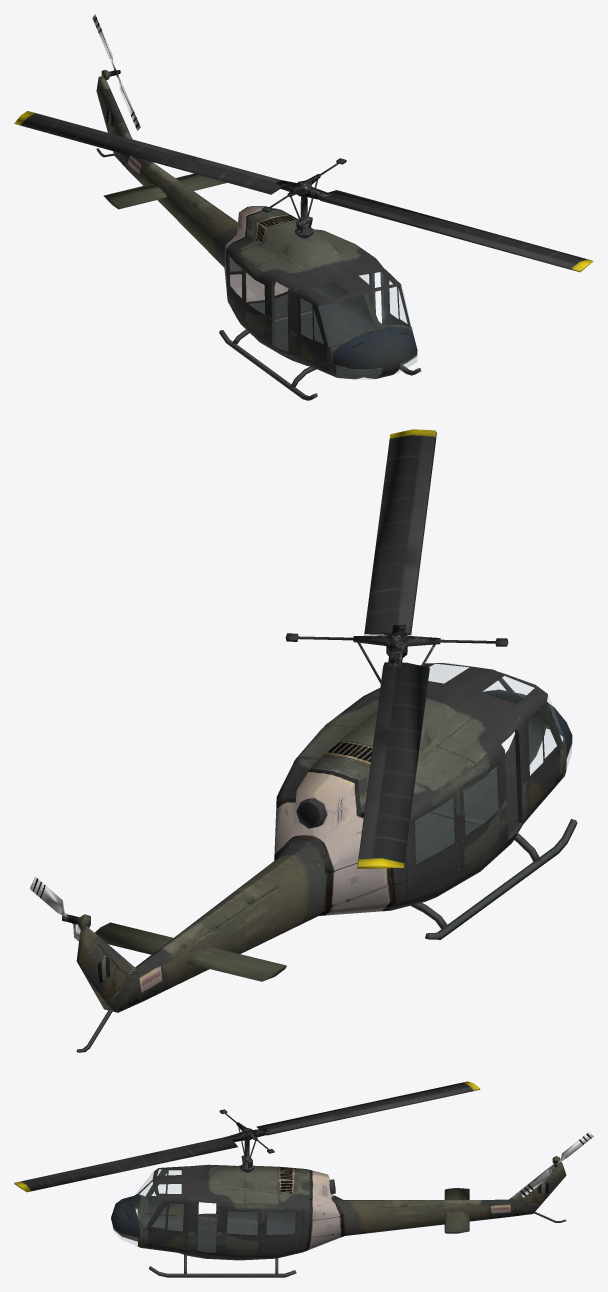
The model's file is heli.glb.
3 renders of one model, top to bottom at view 1: azimuth 30°, elevation 25°; view 2: azimuth 150°, elevation 25°; view 3: azimuth 270°, elevation 25°, orthographic. The views are drawn at different scales.
Parts seen in each view (by area): view 1: Bell_Huey, Top_Rotor, Back_Rotor; view 2: Bell_Huey, Top_Rotor, Back_Rotor; view 3: Bell_Huey, Top_Rotor, Back_Rotor.
Boxes of the visible parts, <box> form: Bell_Huey: <box>96,69,420,400</box>; Top_Rotor: <box>14,111,593,272</box>; Back_Rotor: <box>92,14,140,130</box>; Bell_Huey: <box>76,663,577,1052</box>; Top_Rotor: <box>285,429,508,868</box>; Back_Rotor: <box>30,876,80,941</box>; Bell_Huey: <box>111,1156,566,1277</box>; Top_Rotor: <box>14,1081,480,1192</box>; Back_Rotor: <box>518,1132,593,1197</box>.
Size of the model in its own units: 4.72 by 2.59 by 10.43.
Materials: 2 (1 with a texture image).
